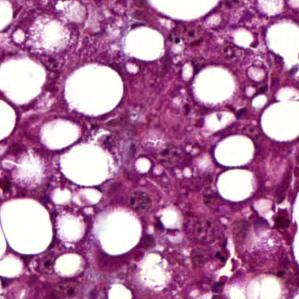steatosis: (60, 63, 127, 118), (56, 64, 124, 117), (211, 133, 257, 166)
